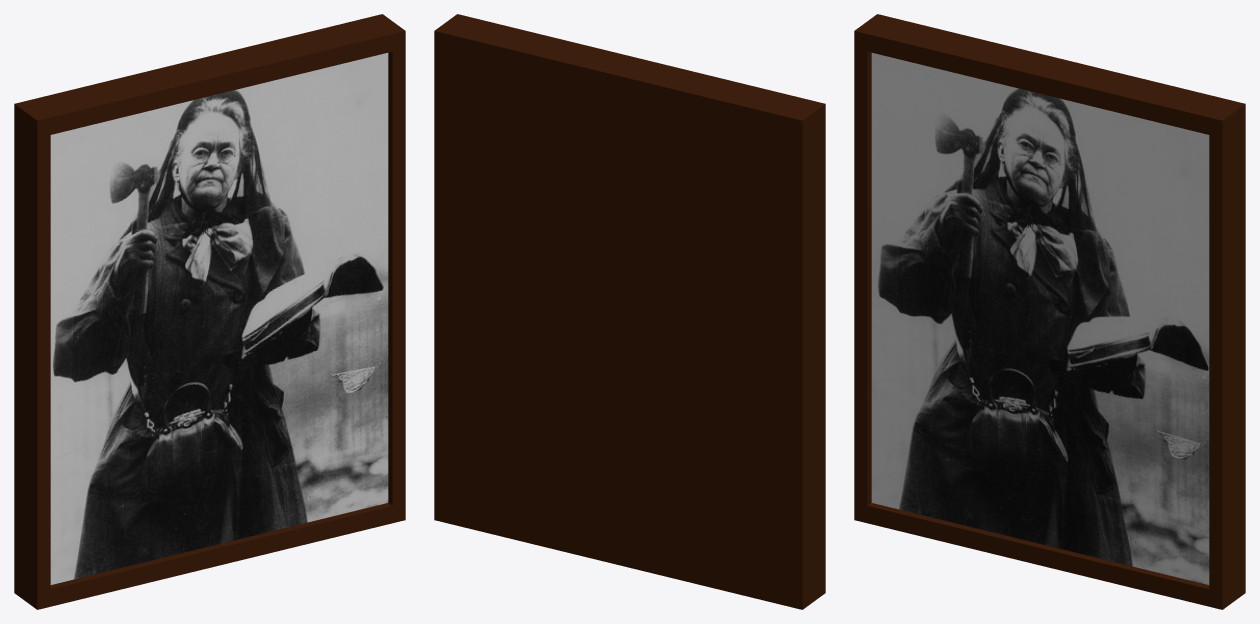
The model's file is ArtFrame.fbx.
The picture shows the model from 3 angles, left to right: view 1: azimuth 30°, elevation 25°; view 2: azimuth 150°, elevation 25°; view 3: azimuth 330°, elevation 25°; orthographic projection.
Visible parts, largest first — view 1: pCube1; view 2: pCube1; view 3: pCube1.
Part boxes in pixels (box(x1,y1,x2,y2)): pCube1: box(14, 14, 405, 609); pCube1: box(434, 14, 825, 609); pCube1: box(854, 14, 1245, 609).
Bounding box in the file's own units: 3.03 × 3.84 × 0.3296.
